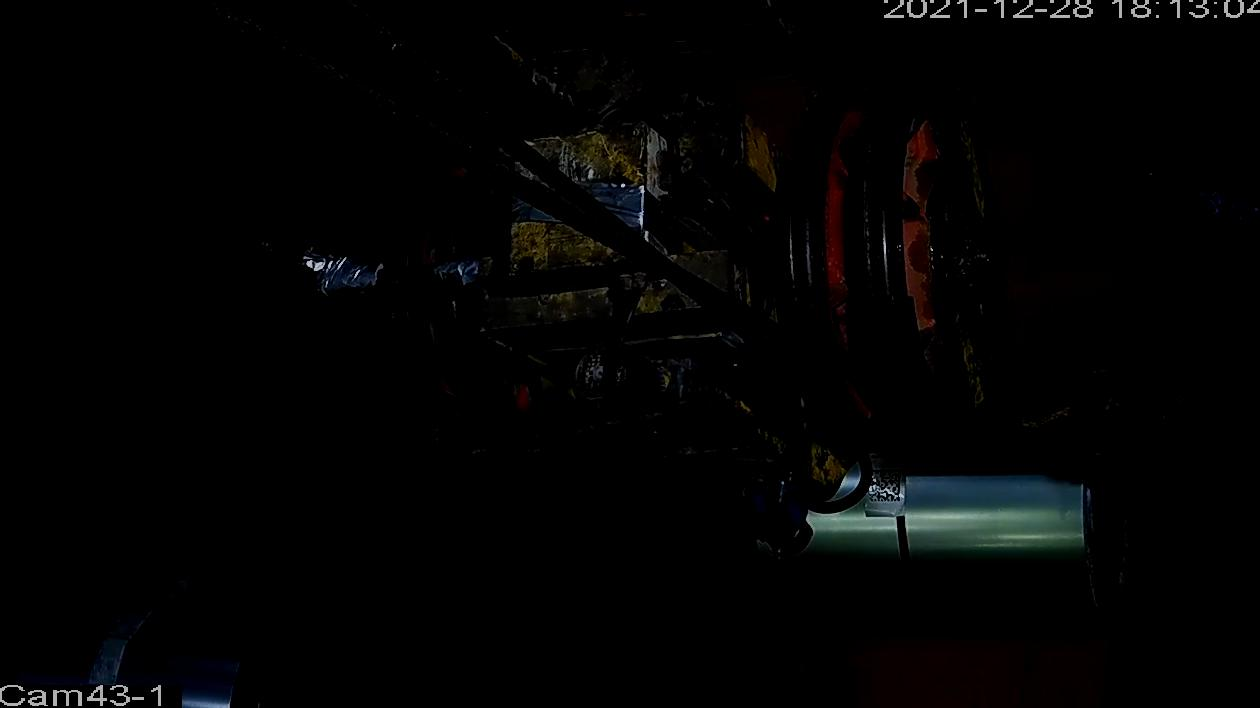data matrix: (869, 469, 904, 504)
